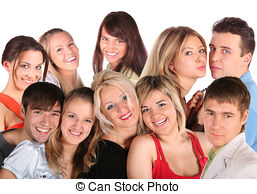face: (199, 77, 245, 155), (205, 16, 254, 83), (93, 72, 144, 132), (22, 82, 67, 147), (138, 74, 183, 137), (95, 7, 138, 66), (56, 90, 95, 151), (5, 32, 44, 91), (163, 25, 203, 81), (41, 17, 84, 69)
